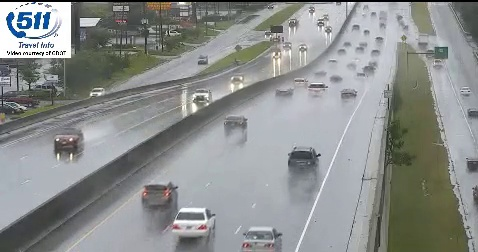car: (172, 207, 214, 238), (243, 226, 280, 251), (142, 182, 177, 207), (288, 147, 318, 171), (225, 115, 246, 131)
